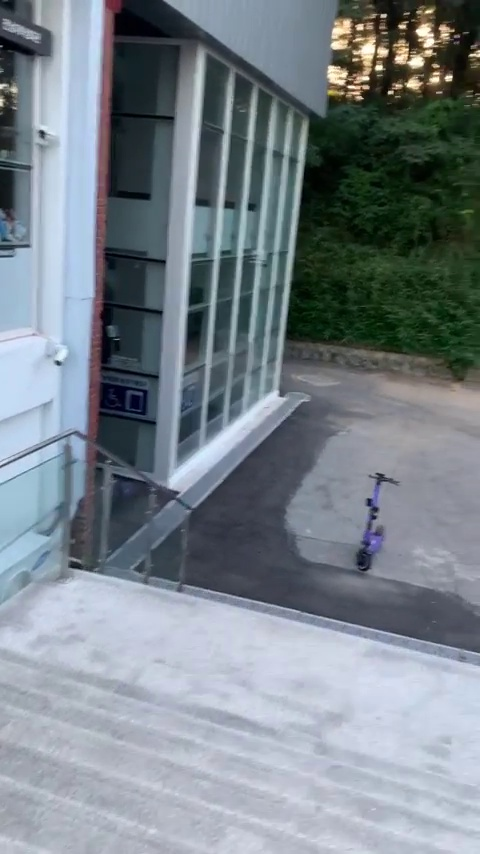beam: (355, 462, 400, 588)
